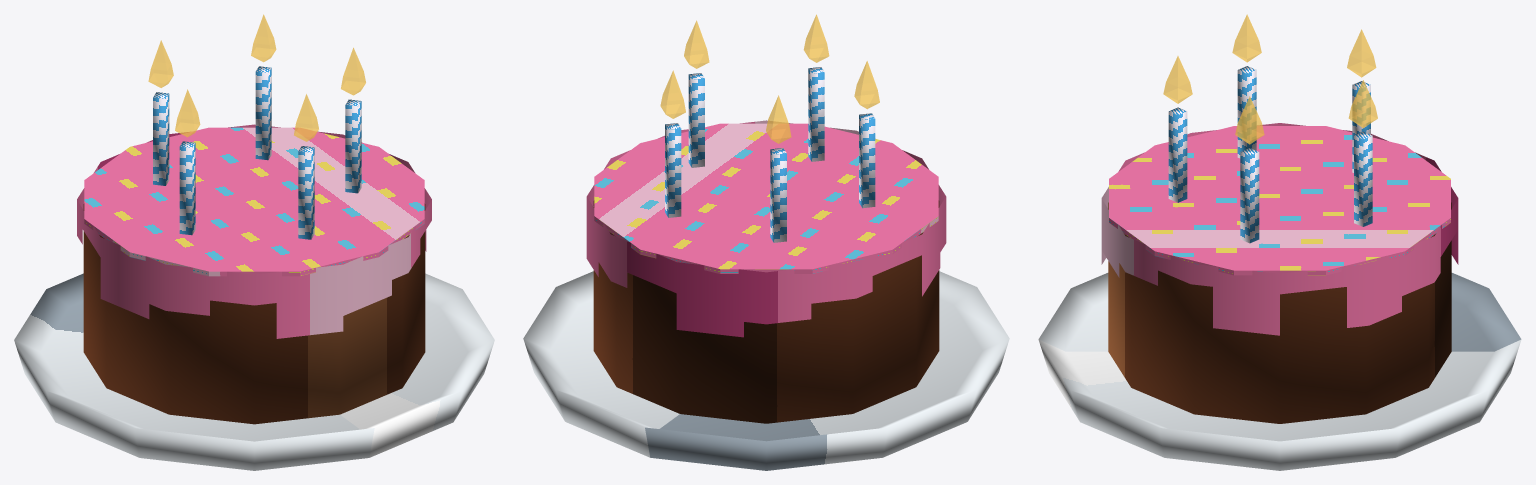
The model's file is fun-birthdayCake.glb.
3 views of the same model, side by side, from view 1: azimuth 30°, elevation 25°; view 2: azimuth 150°, elevation 25°; view 3: azimuth 270°, elevation 25° (orthographic).
Visible parts, largest first — view 1: fun.birthdayCake; view 2: fun.birthdayCake; view 3: fun.birthdayCake.
Boxes of the visible parts, x1,y1,x2,y2 form: fun.birthdayCake: [14, 14, 494, 470]; fun.birthdayCake: [523, 14, 1009, 470]; fun.birthdayCake: [1038, 14, 1521, 470].
Size of the model in its own units: 1.67 by 1.21 by 1.67.
6 materials, 5 textured.
